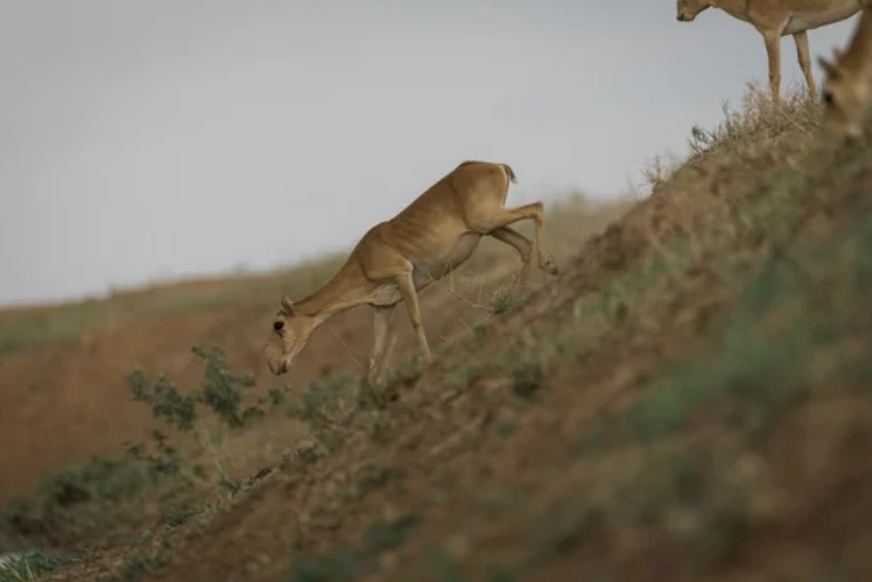saiga: (242, 144, 576, 392)
